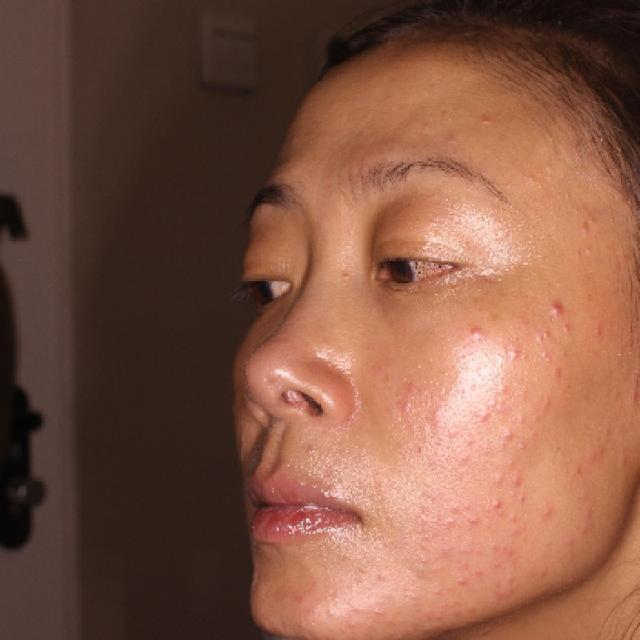Acne: (542, 289, 570, 322), (466, 322, 486, 343)
Whiteheads: (489, 466, 509, 486), (300, 438, 318, 460), (592, 320, 611, 338), (506, 346, 526, 363), (453, 572, 470, 592), (483, 395, 503, 411), (502, 423, 520, 440), (415, 549, 431, 568), (514, 491, 534, 506), (494, 378, 512, 394), (583, 238, 597, 258), (489, 496, 506, 512), (506, 509, 522, 525), (466, 512, 482, 528), (560, 322, 574, 340), (537, 348, 554, 362), (477, 408, 494, 422), (445, 501, 463, 514), (516, 438, 532, 452), (534, 328, 546, 344), (340, 269, 352, 283)
